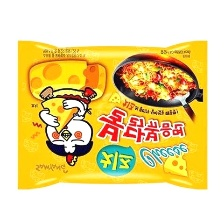snack: (8, 32, 217, 198)
